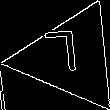L_S: (50, 31, 89, 85)
